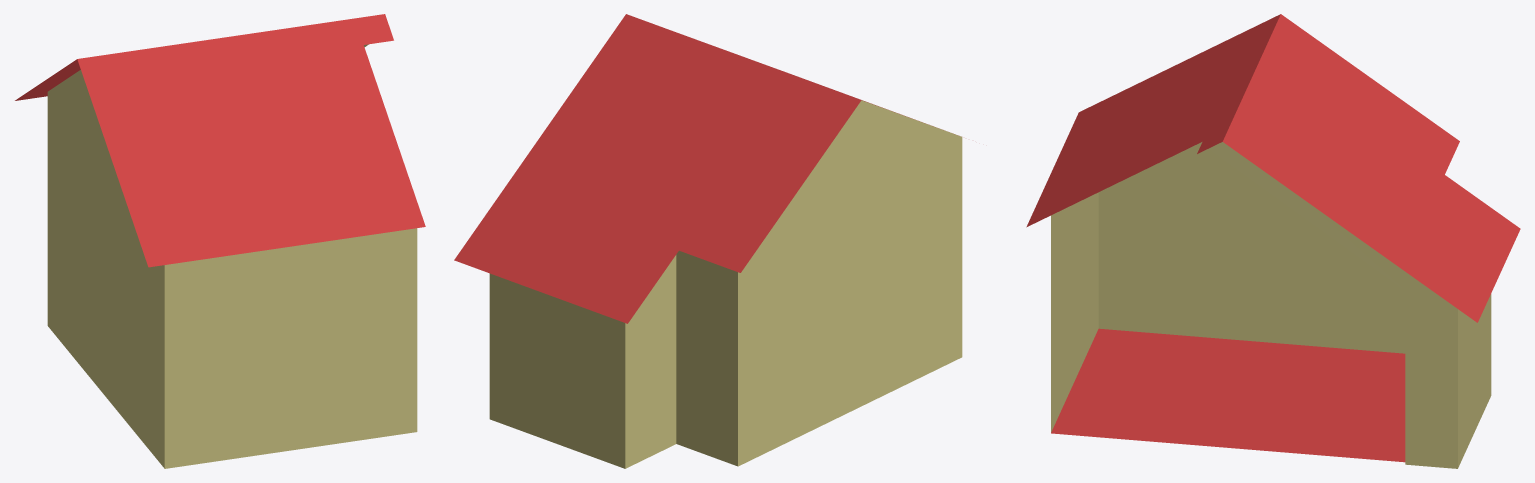
3 renders of one model, left to right at view 1: azimuth 30°, elevation 25°; view 2: azimuth 150°, elevation 25°; view 3: azimuth 270°, elevation 25°, orthographic. The views are drawn at different scales.
Bounding box in the file's own units: 11.71 × 14.82 × 10.54.
